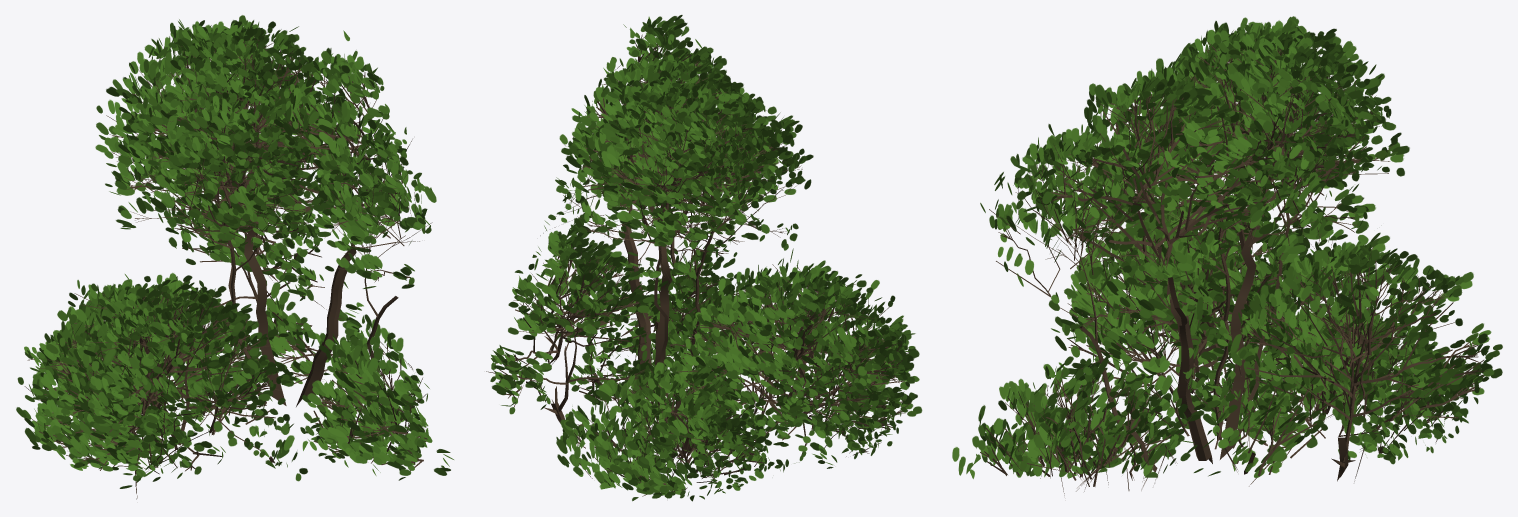
3 views of the same model, side by side, from view 1: azimuth 30°, elevation 25°; view 2: azimuth 150°, elevation 25°; view 3: azimuth 270°, elevation 25° (orthographic). The views are drawn at different scales.
Visible parts, largest first — view 1: oak 01.001_trunk_Mat.001_0.375; view 2: oak 01.001_trunk_Mat.001_0.375; view 3: oak 01.001_trunk_Mat.001_0.375.
Boxes of the visible parts, x1,y1,x2,y2 form: oak 01.001_trunk_Mat.001_0.375: (16, 15, 453, 499); oak 01.001_trunk_Mat.001_0.375: (486, 15, 922, 501); oak 01.001_trunk_Mat.001_0.375: (952, 16, 1502, 495).
Bounding box in the file's own units: 3.36 × 3.81 × 4.39.
2 materials, 1 textured.
